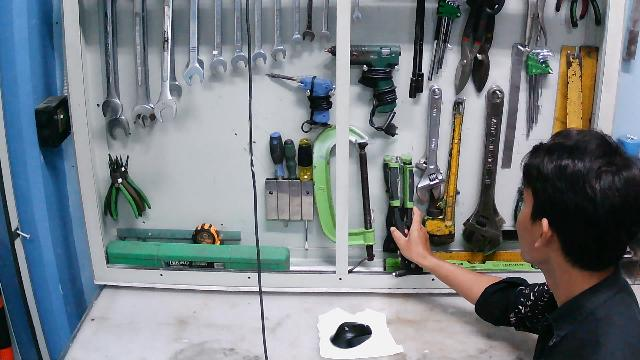tang_rivet: (386, 161, 416, 258)
